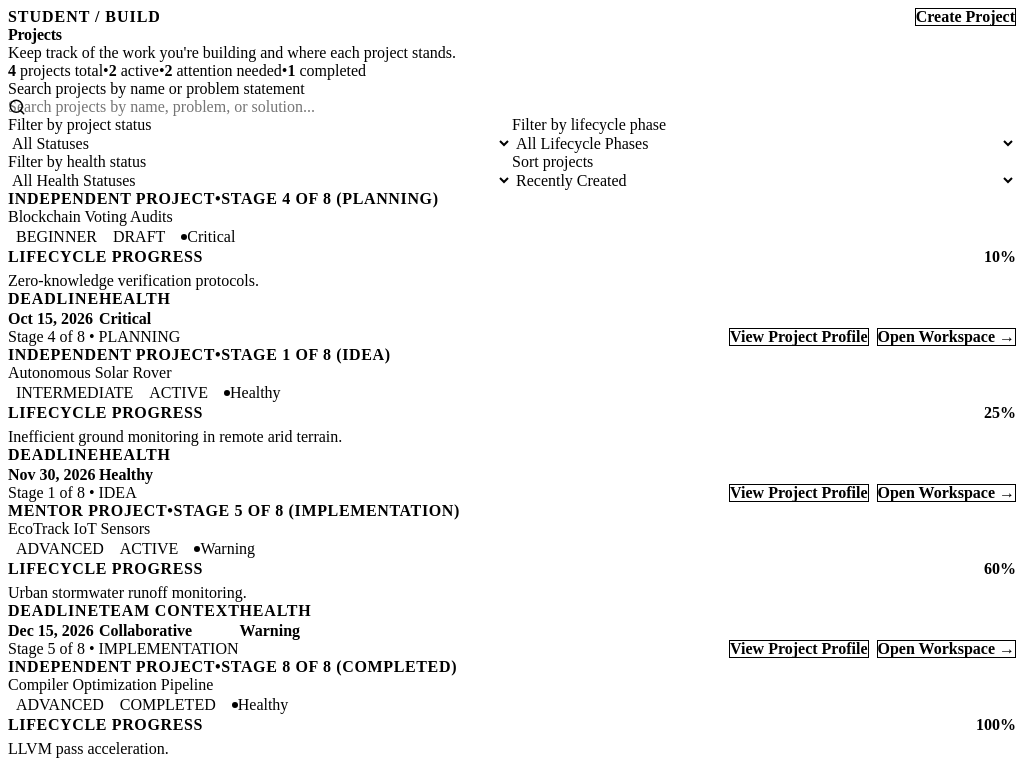
S02 — Student Projects (/student/projects) › 6. filters projects by lifecycle phase (IDEA, IMPLEMENTATION, COMPLETED)
The width and height of the screenshot is (1024, 759).
Expected: the heading "Autonomous Solar Rover" is shown, [8,364,172,381]
// Filter by IMPLEMENTATION
Select "Stage 5: Implementation" in the dropdown labelled "Filter by lifecycle phase" at (764, 144), box [512,134,1016,153]
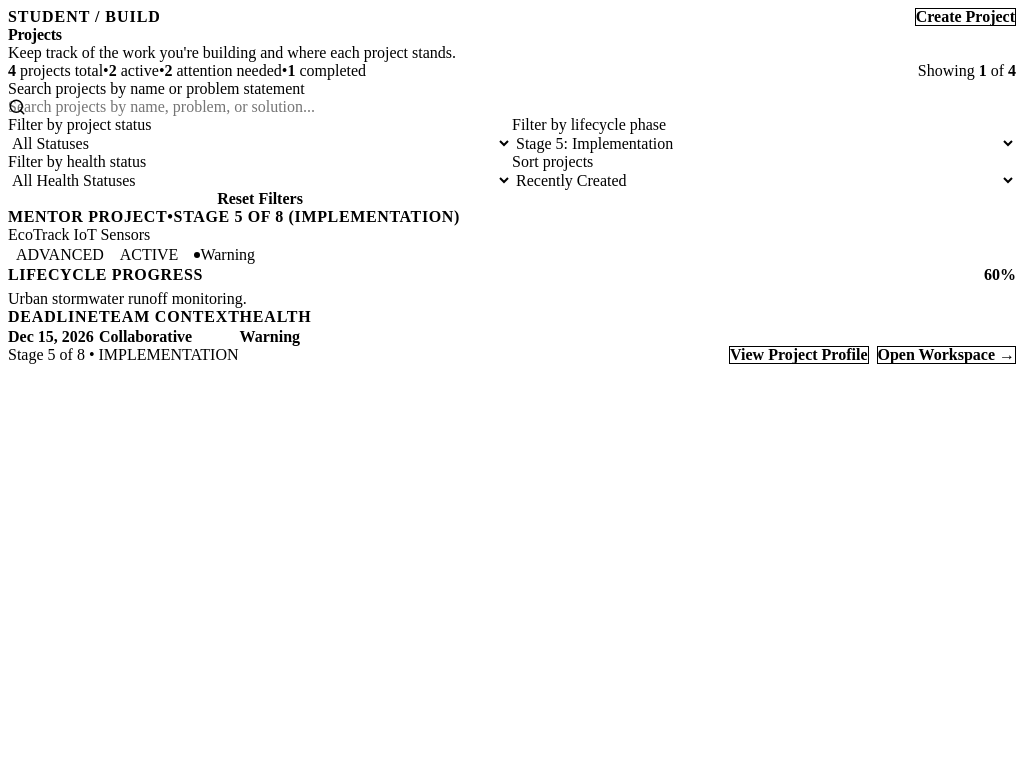
Expected: the heading "EcoTrack IoT Sensors" is shown, [8,226,150,243]
Now the heading "Autonomous Solar Rover" is gone
Now the heading "Compiler Optimization Pipeline" is gone
